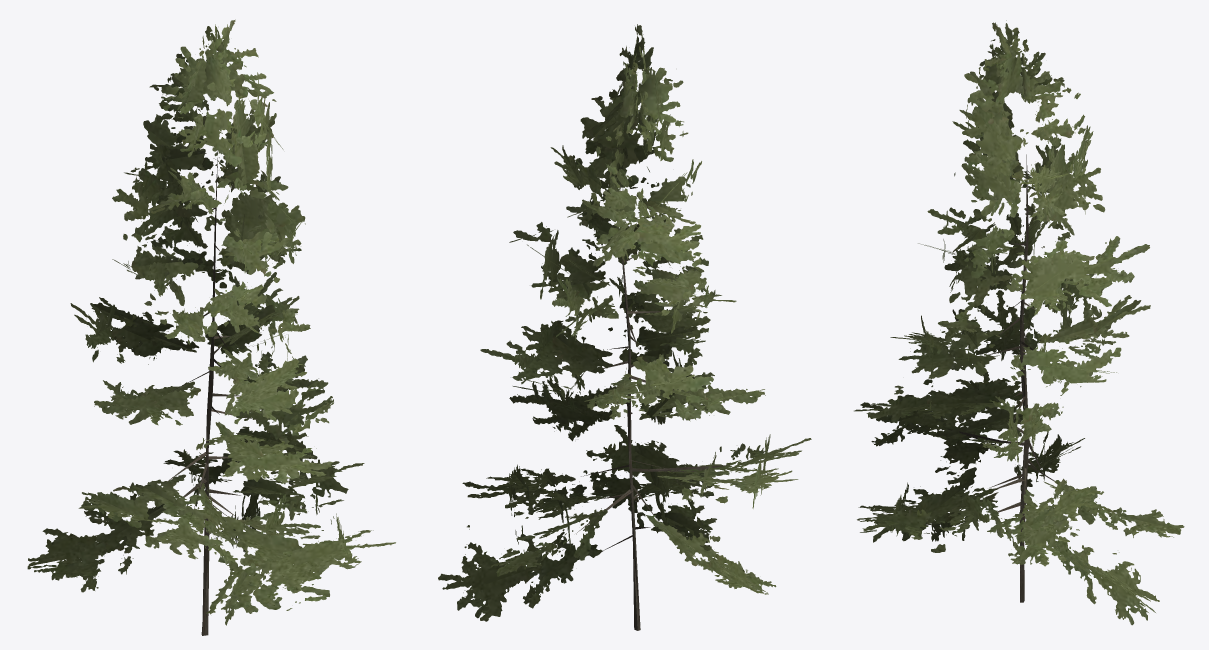
File: firsap_b_lod1.glb
The picture shows the model from 3 angles, left to right: view 1: azimuth 30°, elevation 25°; view 2: azimuth 150°, elevation 25°; view 3: azimuth 270°, elevation 25°; orthographic projection. The views are drawn at different scales.
Visible parts, largest first — view 1: firsap_b_lod1_needles, firsap_b_lod1_branches_fir_sapling_medium_branches; view 2: firsap_b_lod1_needles, firsap_b_lod1_branches_fir_sapling_medium_branches; view 3: firsap_b_lod1_needles, firsap_b_lod1_branches_fir_sapling_medium_branches.
Boxes of the visible parts, x1,y1,x2,y2 form: firsap_b_lod1_needles: (27,19,395,625); firsap_b_lod1_branches_fir_sapling_medium_branches: (162,150,261,635); firsap_b_lod1_needles: (438,24,811,621); firsap_b_lod1_branches_fir_sapling_medium_branches: (576,168,730,630); firsap_b_lod1_needles: (854,20,1184,625); firsap_b_lod1_branches_fir_sapling_medium_branches: (947,154,1054,602).
Size of the model in its own units: 4.44 by 7.74 by 4.2.
Materials: 2 (2 with a texture image).
